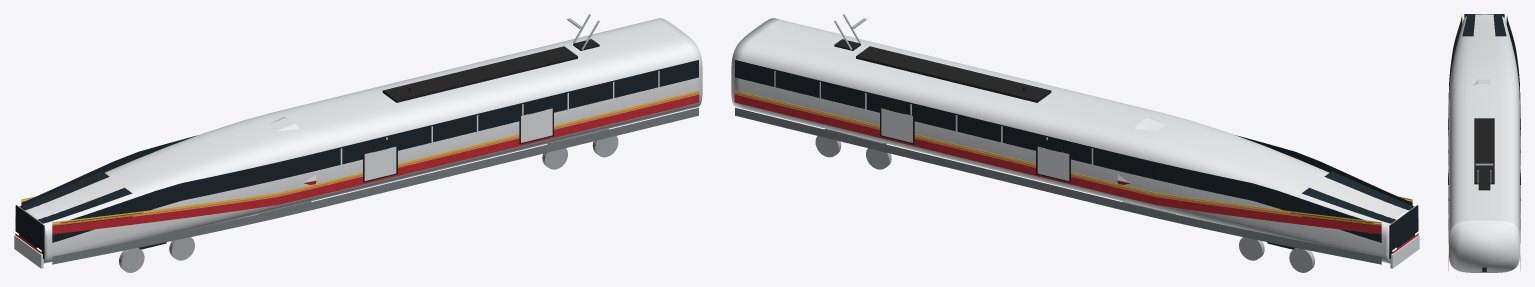
Rendered from cr400af-bs-head-lod-v007.glb.
3 renders of one model, left to right at view 1: azimuth 30°, elevation 25°; view 2: azimuth 150°, elevation 25°; view 3: azimuth 270°, elevation 25°, orthographic. The views are drawn at different scales.
Parts seen in each view (by area): view 1: GEO-headcar-lod, GEO-door_-1_-0.6, GEO-door_-1_5.6, GEO-nose_fairing; view 2: GEO-headcar-lod, GEO-door_1_-0.6, GEO-door_1_5.6, GEO-nose_fairing; view 3: GEO-headcar-lod, GEO-nose_fairing.
Boxes of the visible parts, box(x1,y1,x2,y2) form: GEO-headcar-lod: box(14, 14, 702, 272); GEO-door_-1_-0.6: box(364, 146, 396, 180); GEO-door_-1_5.6: box(521, 108, 552, 142); GEO-nose_fairing: box(258, 117, 316, 214); GEO-headcar-lod: box(731, 14, 1419, 272); GEO-door_1_-0.6: box(1037, 146, 1069, 180); GEO-door_1_5.6: box(881, 108, 912, 142); GEO-nose_fairing: box(1117, 117, 1175, 214); GEO-headcar-lod: box(1448, 14, 1520, 272); GEO-nose_fairing: box(1473, 79, 1495, 85).
Size of the model in its own units: 25.95 by 4.84 by 3.44.
